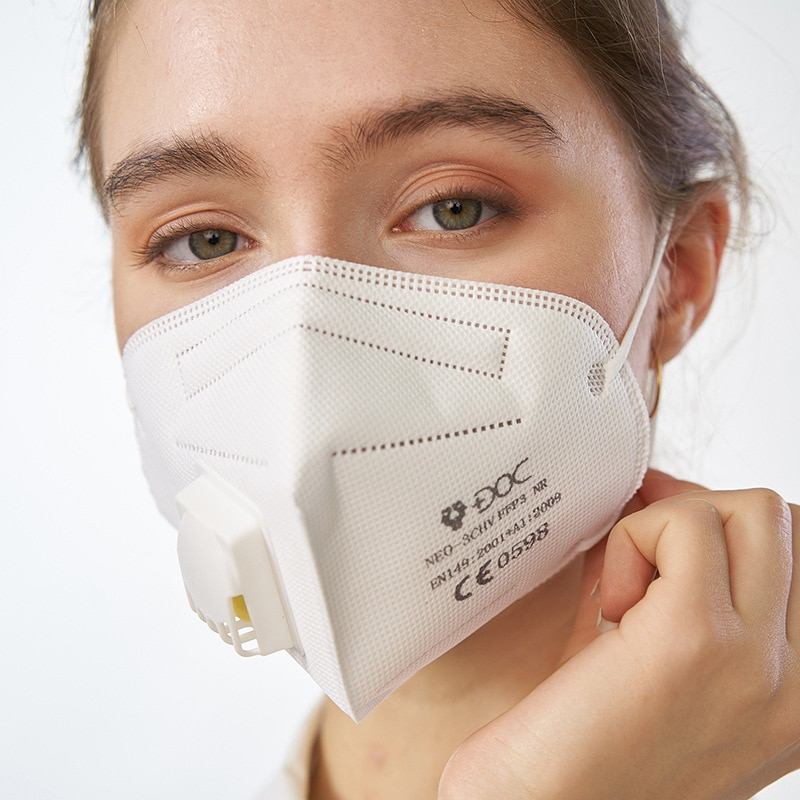with_mask: (141, 19, 659, 540)
